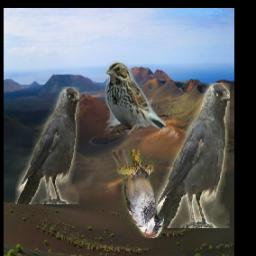Crow: (151, 83, 230, 228), (16, 87, 80, 204)
Sparrow: (112, 150, 164, 239), (105, 61, 167, 134)
